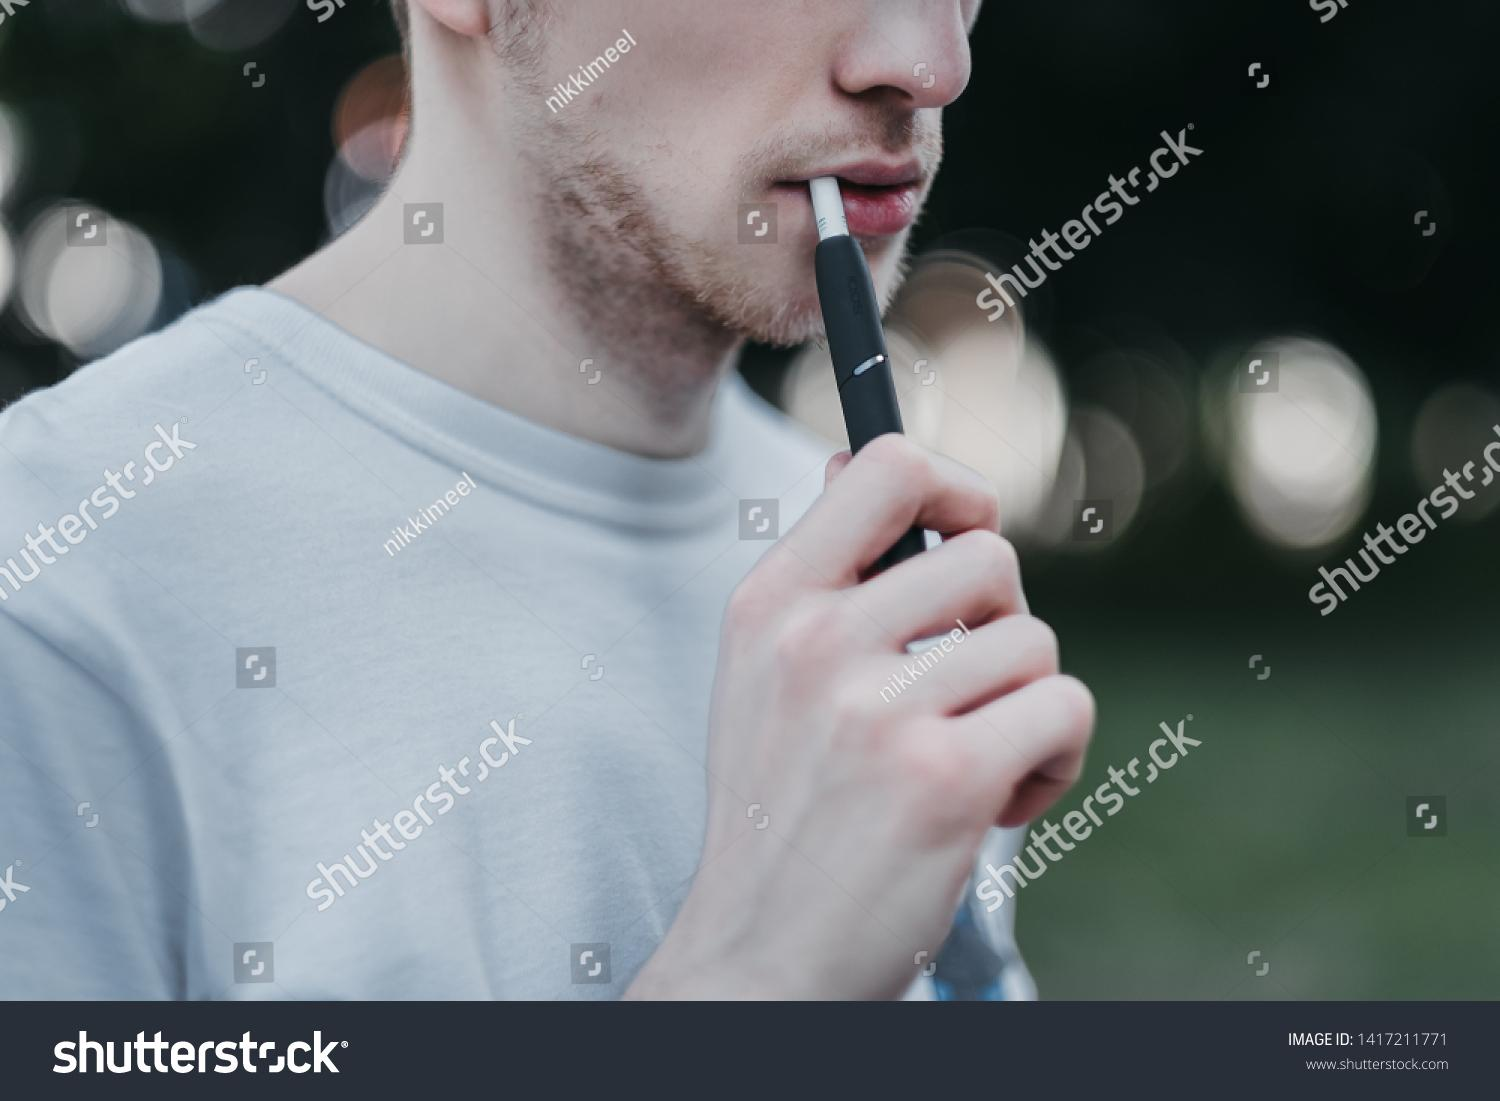iqos: (808, 169, 928, 576)
